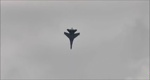maybay_muctieu: (63, 26, 81, 50)
